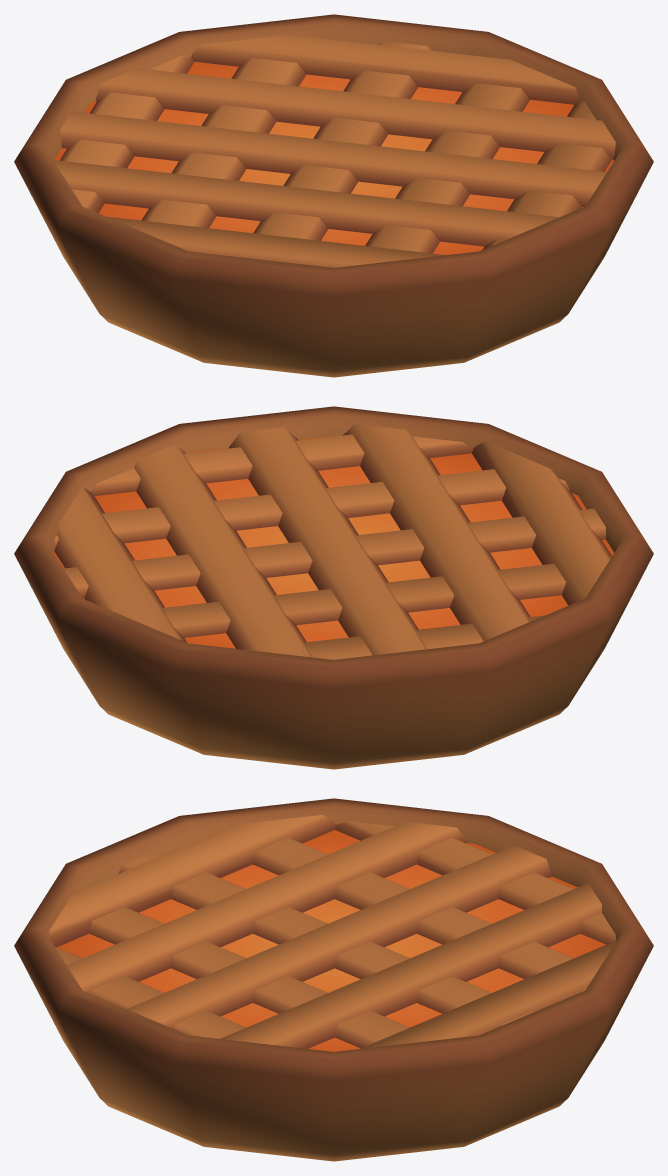
File: m_AmericanPie04.fbx
3 renders of one model, top to bottom at view 1: azimuth 30°, elevation 25°; view 2: azimuth 150°, elevation 25°; view 3: azimuth 270°, elevation 25°, orthographic.
Visible parts, largest first — view 1: m_AmericanPie04; view 2: m_AmericanPie04; view 3: m_AmericanPie04.
Boxes of the visible parts, <box> form: m_AmericanPie04: <box>14,14,653,377</box>; m_AmericanPie04: <box>14,406,653,769</box>; m_AmericanPie04: <box>14,798,653,1161</box>.
Size of the model in its own units: 28 by 5.91 by 28.
